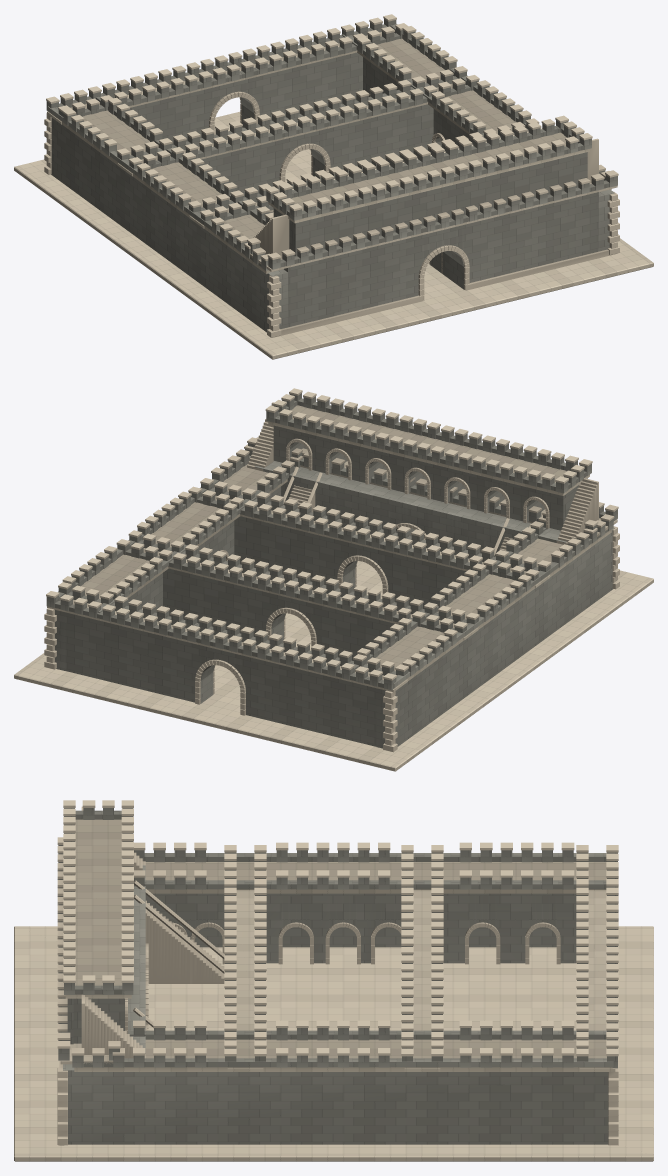
File: 中华门_网页版.glb
The picture shows the model from 3 angles, top to bottom: view 1: azimuth 30°, elevation 25°; view 2: azimuth 150°, elevation 25°; view 3: azimuth 270°, elevation 25°; orthographic projection. The views are drawn at different scales.
Visible parts, largest first — view 1: 中华门_WEB_建筑; view 2: 中华门_WEB_建筑; view 3: 中华门_WEB_建筑.
Part boxes in pixels (x1,y1,x2,y2): 中华门_WEB_建筑: (14, 14, 653, 359); 中华门_WEB_建筑: (14, 388, 653, 771); 中华门_WEB_建筑: (14, 800, 653, 1161).
Size of the model in its own units: 29 by 9.15 by 34.
Materials: 3 (2 with a texture image).
